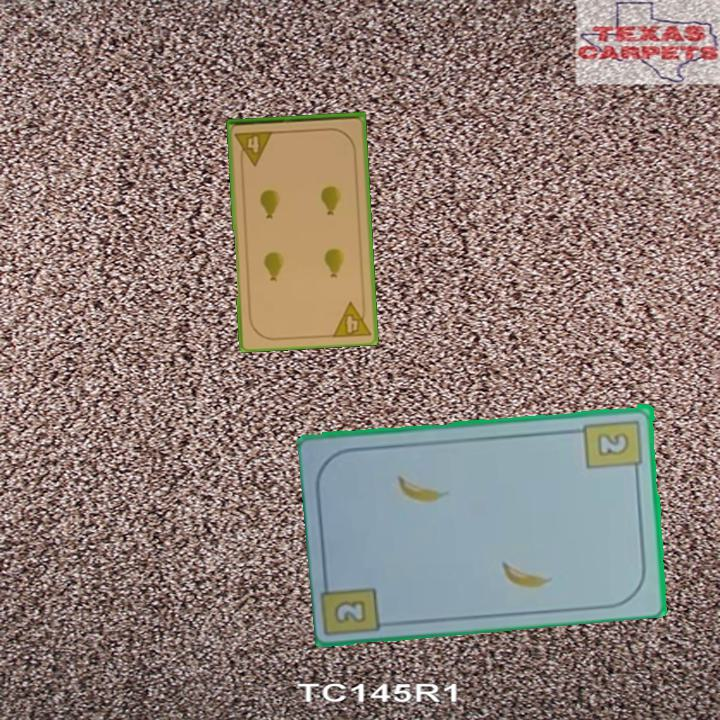2b: (581, 416, 646, 477), (330, 596, 370, 627)
4p: (329, 296, 373, 340), (232, 127, 276, 168)
